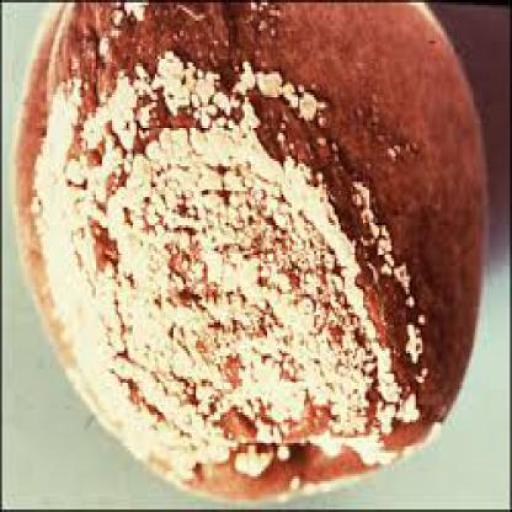biodegradable: (8, 3, 483, 502)
